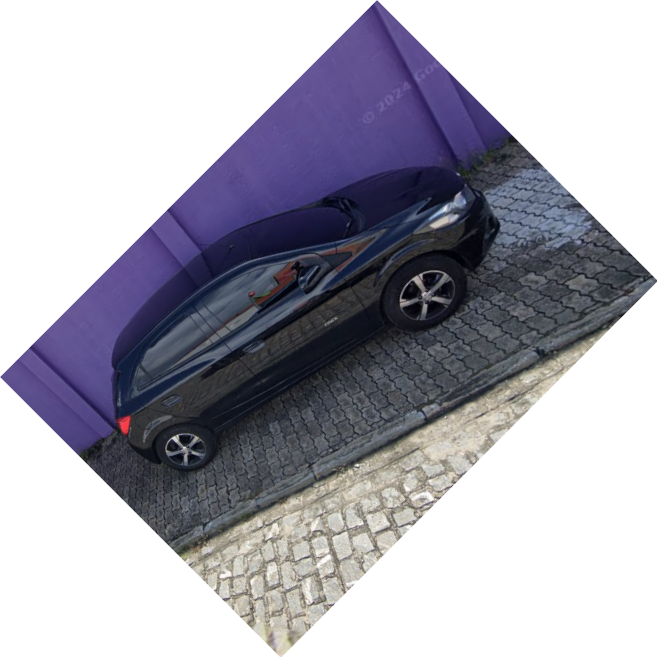car: (110, 164, 500, 475)
